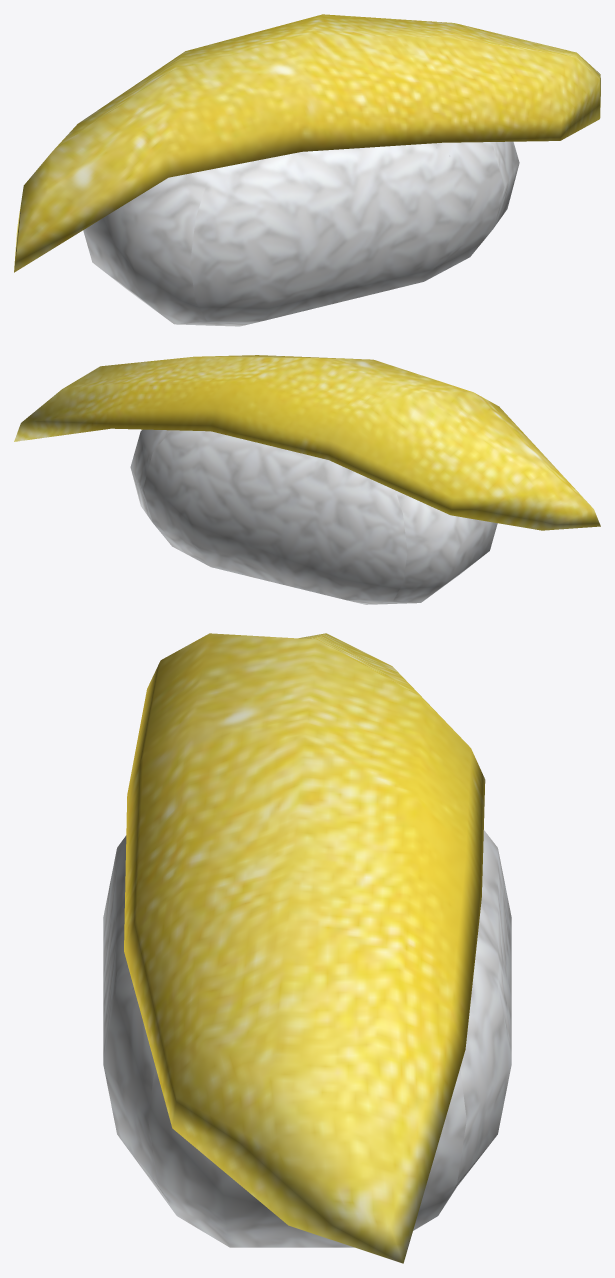
Rendered from herringroe.fbx.
The picture shows the model from 3 angles, top to bottom: view 1: azimuth 30°, elevation 25°; view 2: azimuth 150°, elevation 25°; view 3: azimuth 270°, elevation 25°; orthographic projection. The views are drawn at different scales.
Visible parts, largest first — view 1: herringroe; view 2: herringroe; view 3: herringroe.
Boxes of the visible parts, x1,y1,x2,y2 form: herringroe: (14,14,600,326); herringroe: (14,355,600,604); herringroe: (103,633,511,1263).
Size of the model in its own units: 9.55 by 3.58 by 3.13.
